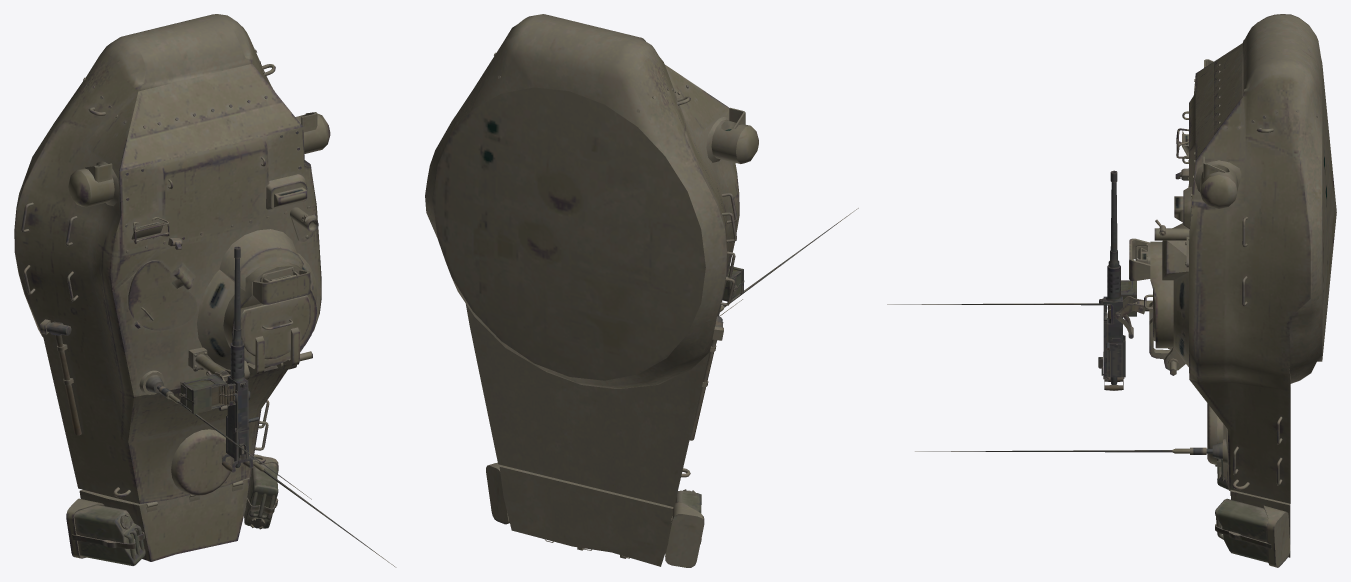
Rendered from Turret_01.glb.
3 views of the same model, side by side, from view 1: azimuth 30°, elevation 25°; view 2: azimuth 150°, elevation 25°; view 3: azimuth 270°, elevation 25° (orthographic). The views are drawn at different scales.
Visible parts, largest first — view 1: set_0_group_0; view 2: set_0_group_0; view 3: set_0_group_0.
Boxes of the visible parts, x1,y1,x2,y2 form: set_0_group_0: [14, 14, 396, 567]; set_0_group_0: [425, 14, 858, 567]; set_0_group_0: [887, 14, 1336, 567].
Size of the model in its own units: 2.28 by 3.83 by 3.14.
Materials: 1 (1 with a texture image).
